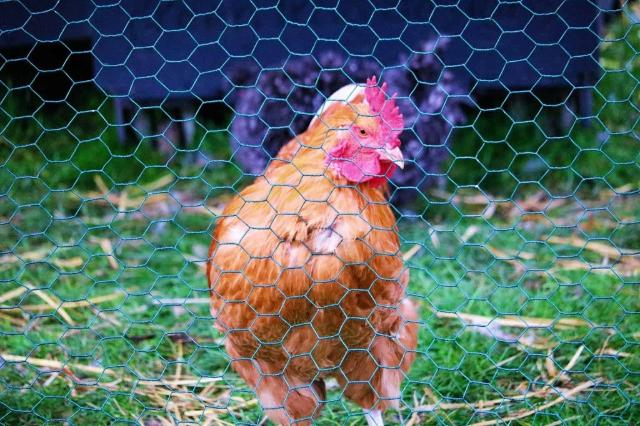Chicken: (208, 77, 417, 426)
